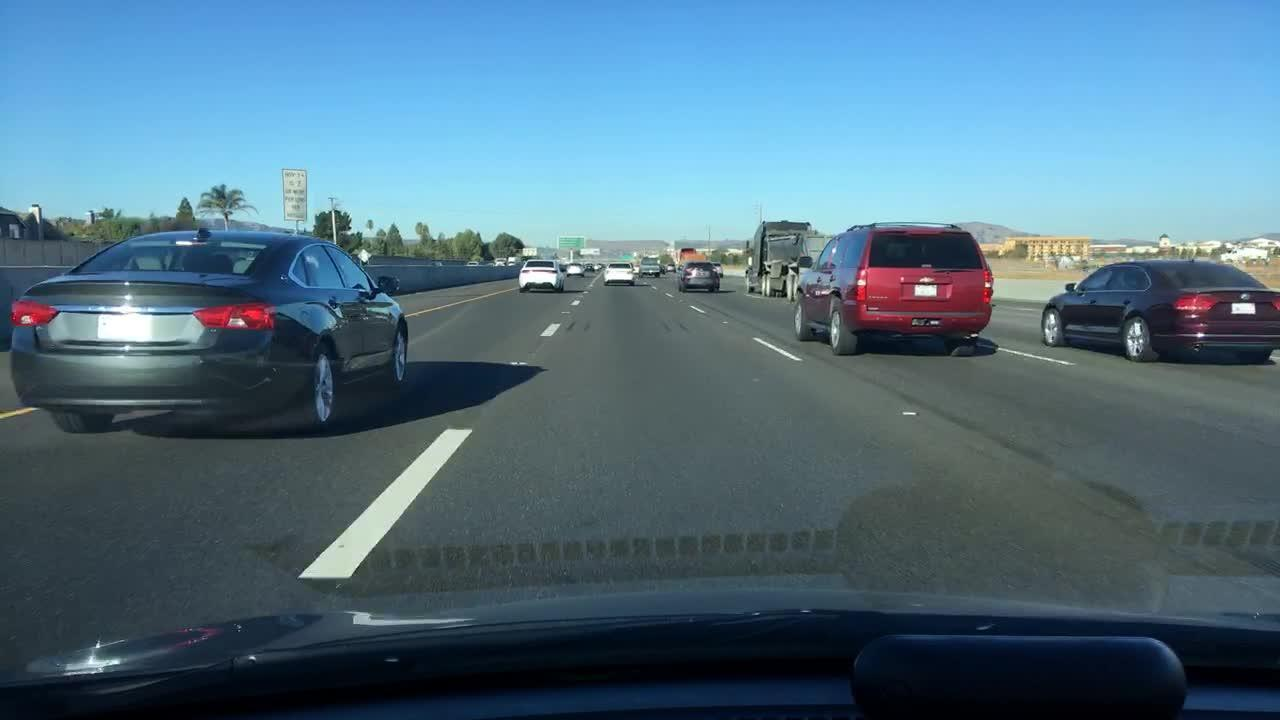chevrolet: (914, 274, 938, 287)
